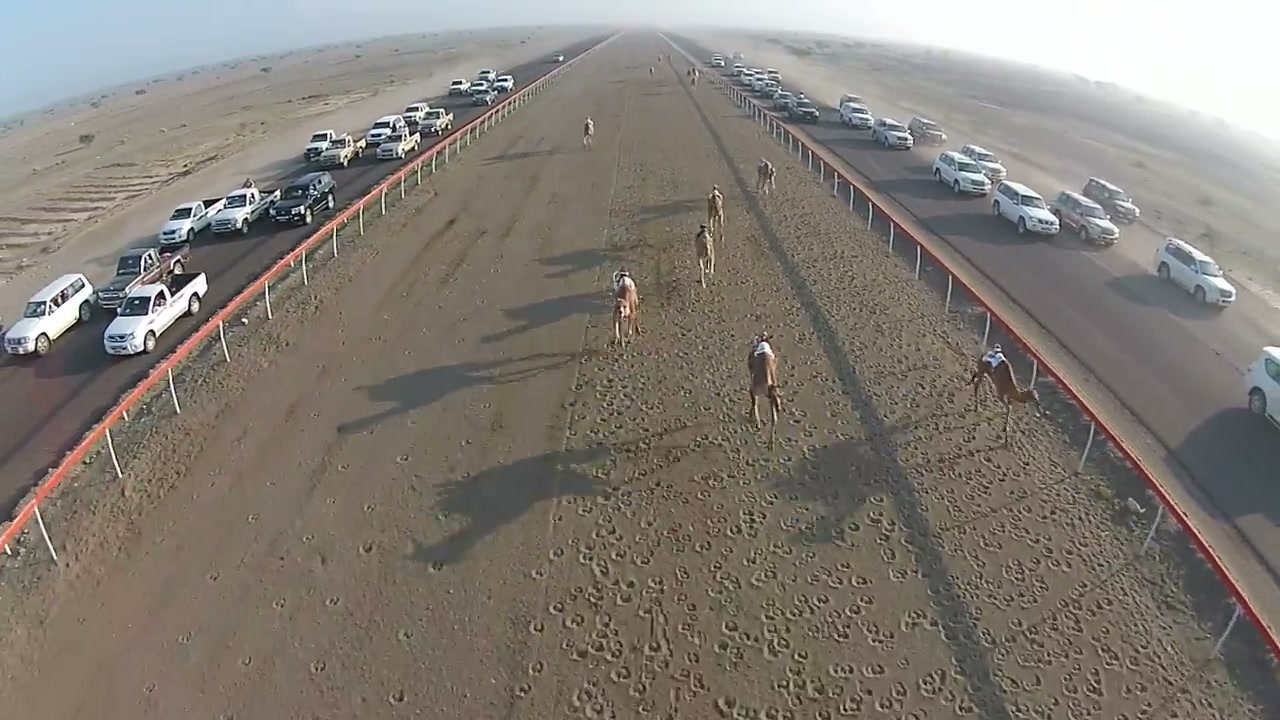animal_foot_print: (555, 348, 1251, 719), (369, 418, 484, 711), (237, 437, 351, 677), (138, 500, 266, 693), (298, 446, 392, 677)
